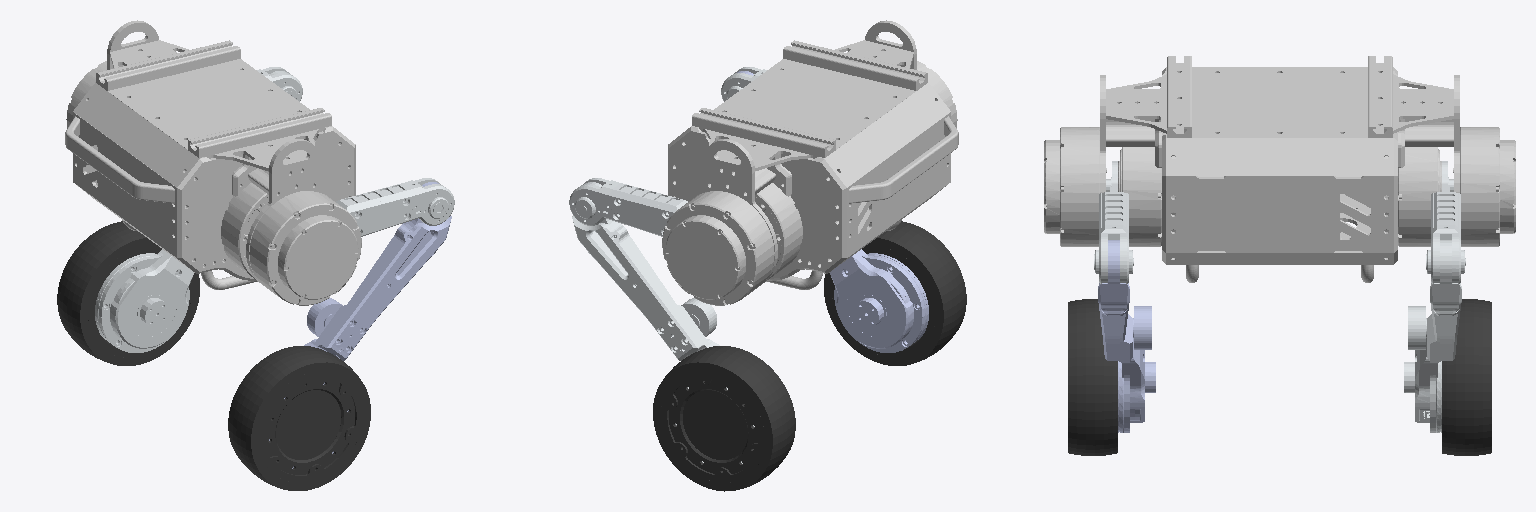
robot.urdf — wheel_legged:
<?xml version="1.0" encoding="utf-8"?>
<!-- This URDF was automatically created by SolidWorks to URDF Exporter! Originally created by [author] ([email redacted]) 
     Commit Version: 1.6.0-4-g7f85cfe  Build Version: 1.6.7995.38578
     For more information, please see http://wiki.ros.org/sw_urdf_exporter -->
<robot name="wheel_legged">
  <link
    name="base_link">
    <inertial>
      <origin
        xyz="-0.00064749 -8.914E-05 0.0086246"
        rpy="0 0 0" />
      <mass
        value="4.5068" />
      <inertia
        ixx="0.0050266"
        ixy="2.0985E-08"
        ixz="4.7026E-06"
        iyy="0.0054947"
        iyz="-1.0295E-06"
        izz="0.0061634" />
    </inertial>
    <visual>
      <origin
        xyz="0 0 0"
        rpy="0 0 0" />
      <geometry>
        <mesh
          filename="../meshes/base_link.STL" />
      </geometry>
      <material
        name="">
        <color
          rgba="0.84706 0.84706 0.84706 1" />
      </material>
    </visual>
    <collision>
      <origin
        xyz="0 0 0"
        rpy="0 0 0" />
      <geometry>
        <mesh
          filename="../meshes/base_link.STL" />
      </geometry>
    </collision>
  </link>
  <!-- ============================== -->
  <link
    name="LF_Link">
    <inertial>
      <origin
        xyz="0.089365 -0.00018073 0.0029646"
        rpy="0 0 0" />
      <mass
        value="0.17934" />
      <inertia
        ixx="1.9784E-05"
        ixy="-3.7742E-07"
        ixz="-6.7797E-07"
        iyy="7.9217E-05"
        iyz="7.0086E-08"
        izz="7.1768E-05" />
    </inertial>
    <visual>
      <origin
        xyz="0 0 0"
        rpy="0 0 0" />
      <geometry>
        <mesh
          filename="../meshes/LF_Link.STL" />
      </geometry>
      <material
        name="">
        <color
          rgba="0.89804 0.91765 0.92941 1" />
      </material>
    </visual>
    <collision>
      <origin
        xyz="0 0 0"
        rpy="0 0 0" />
      <geometry>
        <mesh
          filename="../meshes/LF_Link.STL" />
      </geometry>
    </collision>
  </link>

  <joint
    name="LF_Joint"
    type="revolute">
    <origin
      xyz="0 0.132500000000022 0"
      rpy="0 0 0" />
    <parent
      link="base_link" />
    <child
      link="LF_Link" />
    <axis
      xyz="0 -1 0" />
    <limit
      lower="-1.57"
      upper="3.14"
      effort="30"
      velocity="20" />
  </joint>
  <!-- ============================== -->
  <link
    name="LFP_Link">
    <inertial>
      <origin
        xyz="-0.12177 0.0042175 -0.14582"
        rpy="0 0 0" />
      <mass
        value="0.95838" />
      <inertia
        ixx="0.00069686"
        ixy="-1.2504E-05"
        ixz="-0.00021757"
        iyy="0.0012011"
        iyz="-1.3623E-05"
        izz="0.00065048" />
    </inertial>
    <visual>
      <origin
        xyz="0 0 0"
        rpy="0 0 0" />
      <geometry>
        <mesh
          filename="../meshes/LFP_Link.STL" />
      </geometry>
      <material
        name="">
        <color
          rgba="0.89804 0.91765 0.92941 1" />
      </material>
    </visual>
    <collision>
      <origin
        xyz="0 0 0"
        rpy="0 0 0" />
      <geometry>
        <mesh
          filename="../meshes/LFP_Link.STL" />
      </geometry>
    </collision>
  </link>

  <joint
    name="LFP_Joint"
    type="revolute">
    <origin
      xyz="0.142000004507913 0 0"
      rpy="0 0 0" />
    <parent
      link="LF_Link" />
    <child
      link="LFP_Link" />
    <axis
      xyz="0 1 0" />
    <limit
      lower="-1.134"
      upper="0.314"
      effort="30"
      velocity="20" />
  </joint>
  <!-- ============================== -->
  <link
    name="LW_Link">
    <inertial>
      <origin
        xyz="-2.5931E-15 0.017841 1.3878E-16"
        rpy="0 0 0" />
      <mass
        value="0.3803" />
      <inertia
        ixx="0.00056199"
        ixy="6.5346E-17"
        ixz="-4.6876E-20"
        iyy="0.0010274"
        iyz="-1.8429E-19"
        izz="0.00056199" />
    </inertial>
    <visual>
      <origin
        xyz="0 0 0"
        rpy="0 0 0" />
      <geometry>
        <mesh
          filename="../meshes/LW_Link.STL" />
      </geometry>
      <material
        name="">
        <color
          rgba="0.29804 0.29804 0.29804 1" />
      </material>
    </visual>
    <collision>
      <origin
        xyz="0 0 0"
        rpy="0 0 0" />
      <geometry>
        <mesh
          filename="../meshes/LW_Link.STL" />
      </geometry>
    </collision>
  </link>

  <!-- <joint
    name="LW_Joint"
    type="continuous">
    <origin
      xyz="-0.142000004507854 0 -0.168034099728752"
      rpy="0 0 0" />
    <parent
      link="LFP_Link" />
    <child
      link="LW_Link" />
    <axis
      xyz="0 -1 0" />
    <limit
      lower="-3.14"
      upper="3.14"
      effort="100"
      velocity="100" />
  </joint> -->
  <joint
    name="LW_Joint"
    type="revolute">
    <origin
      xyz="-0.142000004507854 0 -0.168034099728752"
      rpy="0 0 0" />
    <parent
      link="LFP_Link" />
    <child
      link="LW_Link" />
    <axis
      xyz="0 -1 0" />
    <limit
      lower="-999999"
      upper="999999"
      effort="5"
      velocity="50" />
  </joint>
  <!-- ============================== -->
  <link
    name="RF_Link">
    <inertial>
      <origin
        xyz="0.089365 -7.144E-05 0.0029646"
        rpy="0 0 0" />
      <mass
        value="0.17934" />
      <inertia
        ixx="1.9784E-05"
        ixy="-2.2061E-08"
        ixz="-6.7797E-07"
        iyy="7.9217E-05"
        iyz="8.8013E-08"
        izz="7.1768E-05" />
    </inertial>
    <visual>
      <origin
        xyz="0 0 0"
        rpy="0 0 0" />
      <geometry>
        <mesh
          filename="../meshes/RF_Link.STL" />
      </geometry>
      <material
        name="">
        <color
          rgba="0.89804 0.91765 0.92941 1" />
      </material>
    </visual>
    <collision>
      <origin
        xyz="0 0 0"
        rpy="0 0 0" />
      <geometry>
        <mesh
          filename="../meshes/RF_Link.STL" />
      </geometry>
    </collision>
  </link>

  <joint
    name="RF_Joint"
    type="revolute">
    <origin
      xyz="0 -0.132499999999983 0"
      rpy="0 0 0" />
    <parent
      link="base_link" />
    <child
      link="RF_Link" />
    <axis
      xyz="0 -1 0" />
    <limit
      lower="-1.57"
      upper="3.14"
      effort="30"
      velocity="20" />
  </joint>
  <!-- ============================== -->
  <link
    name="RFP_Link">
    <inertial>
      <origin
        xyz="-0.12541 -0.0043984 -0.1498"
        rpy="0 0 0" />
      <mass
        value="0.95838" />
      <inertia
        ixx="0.00064564"
        ixy="1.2453E-05"
        ixz="-0.00017667"
        iyy="0.0011108"
        iyz="1.372E-05"
        izz="0.00061075" />
    </inertial>
    <visual>
      <origin
        xyz="0 0 0"
        rpy="0 0 0" />
      <geometry>
        <mesh
          filename="../meshes/RFP_Link.STL" />
      </geometry>
      <material
        name="">
        <color
          rgba="0.79608 0.82353 0.93725 1" />
      </material>
    </visual>
    <collision>
      <origin
        xyz="0 0 0"
        rpy="0 0 0" />
      <geometry>
        <mesh
          filename="../meshes/RFP_Link.STL" />
      </geometry>
    </collision>
  </link>

  <joint
    name="RFP_Joint"
    type="revolute">
    <origin
      xyz="0.142000004507912 0 0"
      rpy="0 0 0" />
    <parent
      link="RF_Link" />
    <child
      link="RFP_Link" />
    <axis
      xyz="0 1 0" />
    <limit
      lower="-1.134"
      upper="0.314"
      effort="30"
      velocity="20" />

  </joint>
  <!-- ============================== -->
  <link
    name="RW_Link">
    <inertial>
      <origin
        xyz="5.6319E-15 -0.017841 4.0079E-14"
        rpy="0 0 0" />
      <mass
        value="0.3803" />
      <inertia
        ixx="0.00056199"
        ixy="-9.5866E-18"
        ixz="-3.552E-21"
        iyy="0.0010274"
        iyz="-7.556E-19"
        izz="0.00056199" />
    </inertial>
    <visual>
      <origin
        xyz="0 0 0"
        rpy="0 0 0" />
      <geometry>
        <mesh
          filename="../meshes/RW_Link.STL" />
      </geometry>
      <material
        name="">
        <color
          rgba="0.29804 0.29804 0.29804 1" />
      </material>
    </visual>
    <collision>
      <origin
        xyz="0 0 0"
        rpy="0 0 0" />
      <geometry>
        <mesh
          filename="../meshes/RW_Link.STL" />
      </geometry>
    </collision>
  </link>

  <!-- <joint
    name="RW_Joint"
    type="continuous">
    <origin
      xyz="-0.142 0 -0.16803"
      rpy="0 0 0" />
    <parent
      link="RFP_Link" />
    <child
      link="RW_Link" />
    <axis
      xyz="0 -1 0" />
    <limit
      lower="-3.14"
      upper="3.14"
      effort="100"
      velocity="100" />
  </joint> -->
  <joint
    name="RW_Joint"
    type="revolute">
    <origin
      xyz="-0.142 0 -0.16803"
      rpy="0 0 0" />
    <parent
      link="RFP_Link" />
    <child
      link="RW_Link" />
    <axis
      xyz="0 -1 0" />
    <limit
      lower="-99999"
      upper="99999"
      effort="5" 
      velocity="50" />

  </joint>
</robot>

--- Facts derived from the render (not from the file) ---
Views: 3 orthographic renders of the robot side by side, from view 1: azimuth 30°, elevation 25°; view 2: azimuth 150°, elevation 25°; view 3: azimuth 270°, elevation 25°.
Robot: wheel_legged — 7 links, 6 joints (6 revolute); root link base_link; default pose: all joints at 0.
Links seen in each view (by area): view 1: base_link, RW_Link, LFP_Link, LW_Link, RFP_Link, RF_Link, LF_Link; view 2: base_link, LW_Link, RFP_Link, RW_Link, LFP_Link, LF_Link, RF_Link; view 3: base_link, LW_Link, RW_Link, LFP_Link, RFP_Link, LF_Link, RF_Link.
Boxes of the visible links, x1=… form: base_link: x1=65, y1=20, x2=361, y2=305; RW_Link: x1=228, y1=346, x2=370, y2=490; LFP_Link: x1=95, y1=71, x2=286, y2=352; LW_Link: x1=57, y1=221, x2=199, y2=365; RFP_Link: x1=269, y1=182, x2=451, y2=468; RF_Link: x1=336, y1=178, x2=454, y2=236; LF_Link: x1=257, y1=67, x2=302, y2=101; base_link: x1=662, y1=20, x2=958, y2=305; LW_Link: x1=653, y1=346, x2=795, y2=491; RFP_Link: x1=737, y1=71, x2=928, y2=352; RW_Link: x1=824, y1=221, x2=966, y2=365; LFP_Link: x1=572, y1=182, x2=754, y2=463; LF_Link: x1=569, y1=178, x2=687, y2=236; RF_Link: x1=721, y1=67, x2=766, y2=101; base_link: x1=1044, y1=56, x2=1515, y2=282; LW_Link: x1=1442, y1=299, x2=1491, y2=455; RW_Link: x1=1068, y1=299, x2=1117, y2=455; LFP_Link: x1=1404, y1=240, x2=1461, y2=432; RFP_Link: x1=1098, y1=240, x2=1155, y2=432; LF_Link: x1=1426, y1=161, x2=1465, y2=283; RF_Link: x1=1094, y1=161, x2=1133, y2=283.
Size in the robot's own frame: 0.275 by 0.376 by 0.3272 metres.
7 mesh visuals loaded from 7 distinct referenced files (7 binary STL).